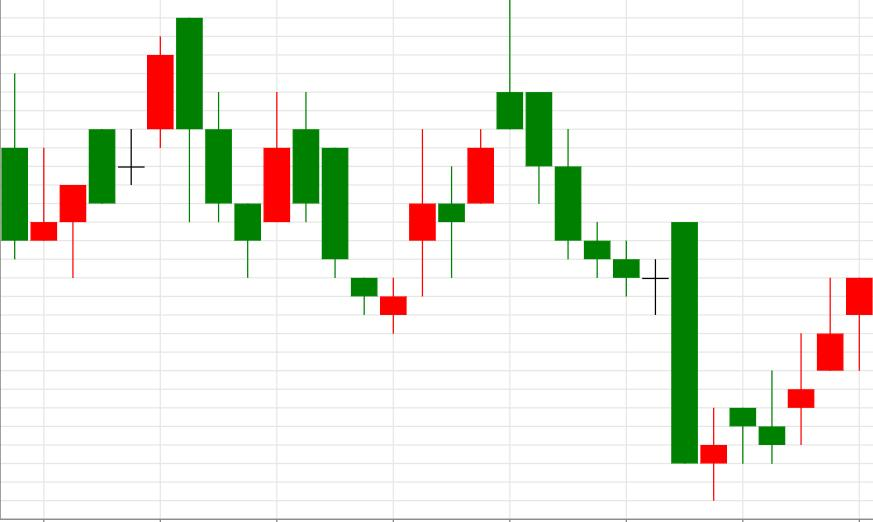shooting_star_fall: (381, 1, 522, 334)
